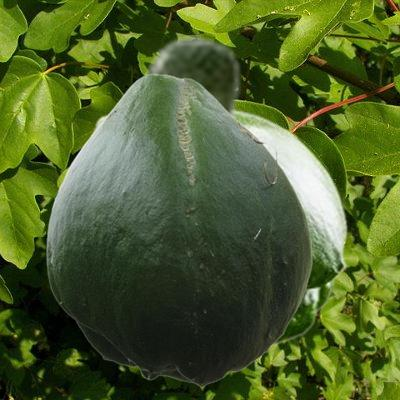sayote: (46, 73, 311, 387), (83, 106, 347, 349), (119, 35, 250, 125)
